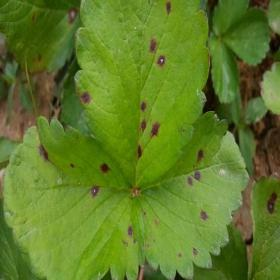Leaf Spot: (73, 0, 210, 190), (2, 116, 146, 279), (134, 110, 250, 279)
